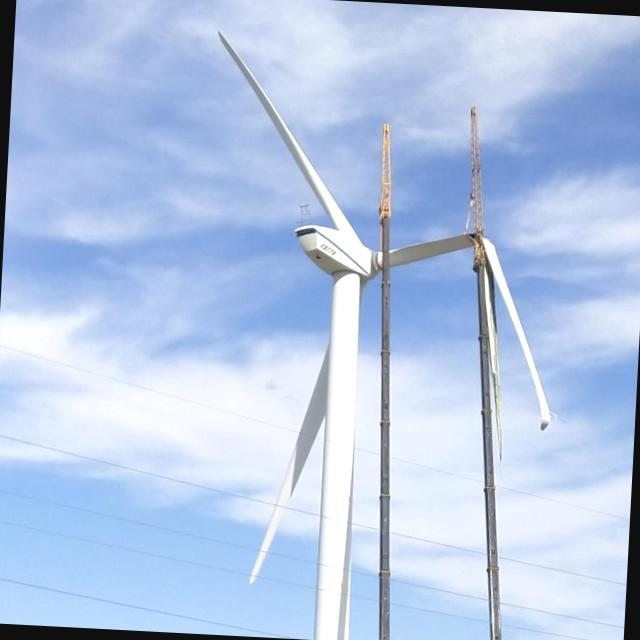crack: (442, 225, 564, 434)
